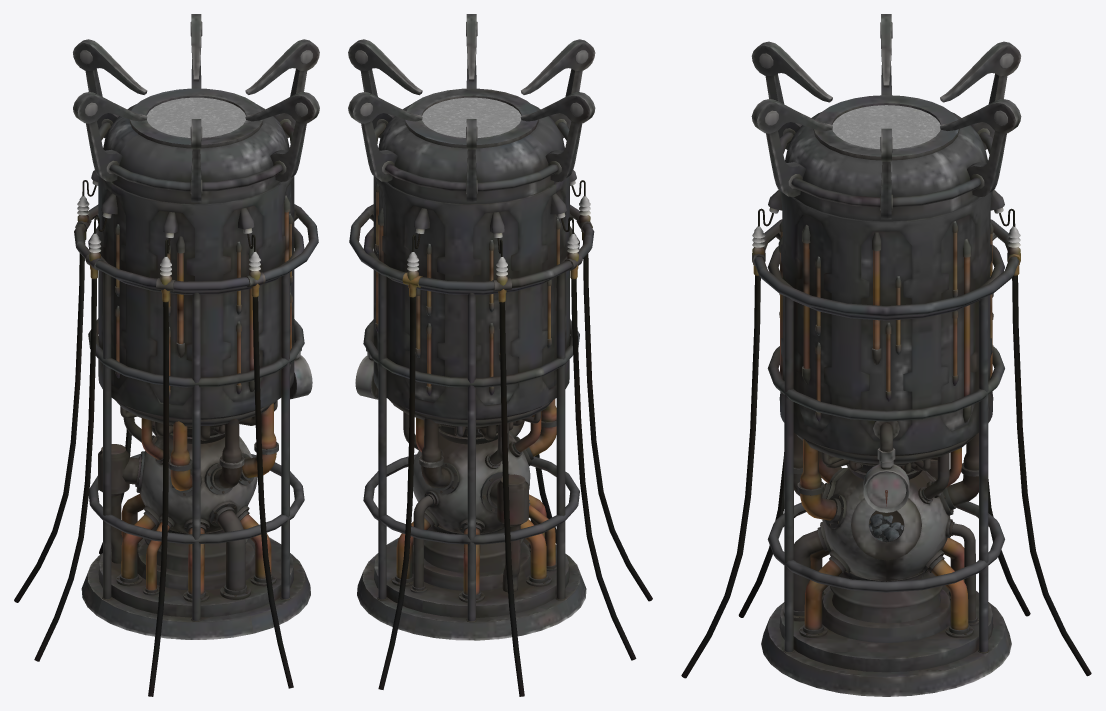
File: SM_HeaterElectric_ae6f54.glb
The picture shows the model from 3 angles, left to right: view 1: azimuth 30°, elevation 25°; view 2: azimuth 150°, elevation 25°; view 3: azimuth 270°, elevation 25°; orthographic projection. The views are drawn at different scales.
Bounding box in the file's own units: 2.51 × 4.67 × 2.88.
4 materials, 4 textured.
